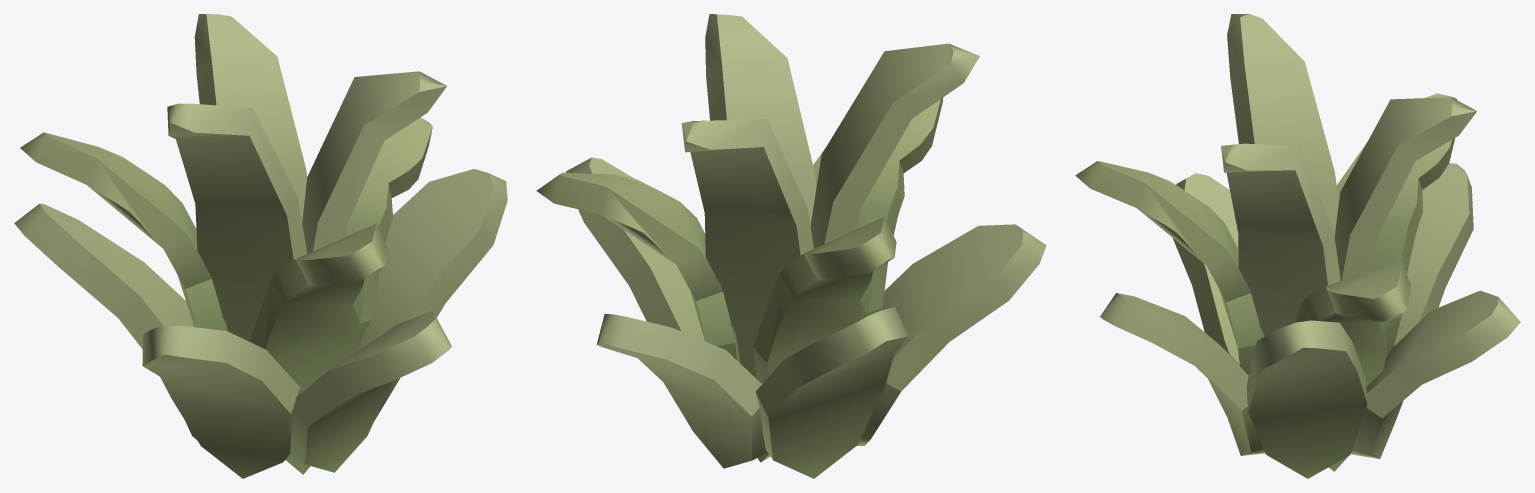
Rendered from plant-separate-type-f.glb.
3 renders of one model, left to right at view 1: azimuth 30°, elevation 25°; view 2: azimuth 150°, elevation 25°; view 3: azimuth 270°, elevation 25°, orthographic. The views are drawn at different scales.
Parts seen in each view (by area): view 1: plant-separate-type-f; view 2: plant-separate-type-f; view 3: plant-separate-type-f.
Part boxes in pixels (<box>): plant-separate-type-f: <box>14,14,507,478</box>; plant-separate-type-f: <box>536,14,1046,478</box>; plant-separate-type-f: <box>1075,14,1520,478</box>.
Bounding box in the file's own units: 0.5442 × 0.5098 × 0.5494.
